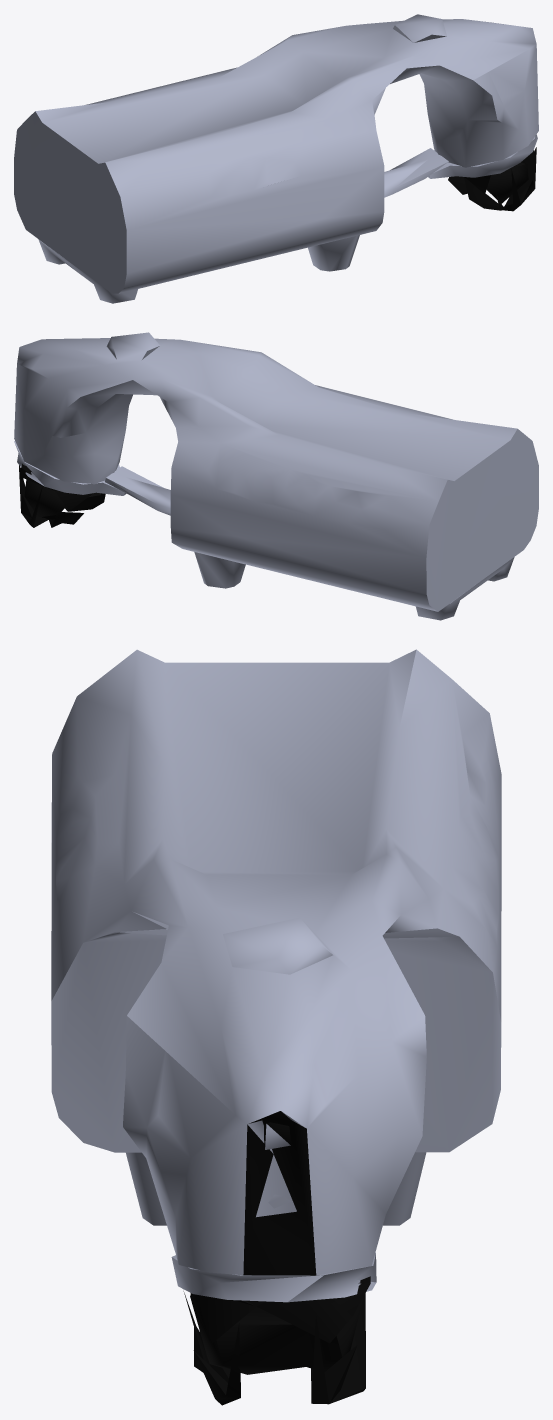
The model's file is base_dae.dae.
3 renders of one model, top to bottom at view 1: azimuth 30°, elevation 25°; view 2: azimuth 150°, elevation 25°; view 3: azimuth 270°, elevation 25°, orthographic. The views are drawn at different scales.
Parts seen in each view (by area): view 1: base_dae; view 2: base_dae; view 3: base_dae.
Boxes of the visible parts, bbox=[...] form: base_dae: bbox=[14, 14, 538, 303]; base_dae: bbox=[14, 332, 538, 620]; base_dae: bbox=[51, 649, 501, 1405].
Bounding box in the file's own units: 0.4614 × 0.1947 × 0.1869.
